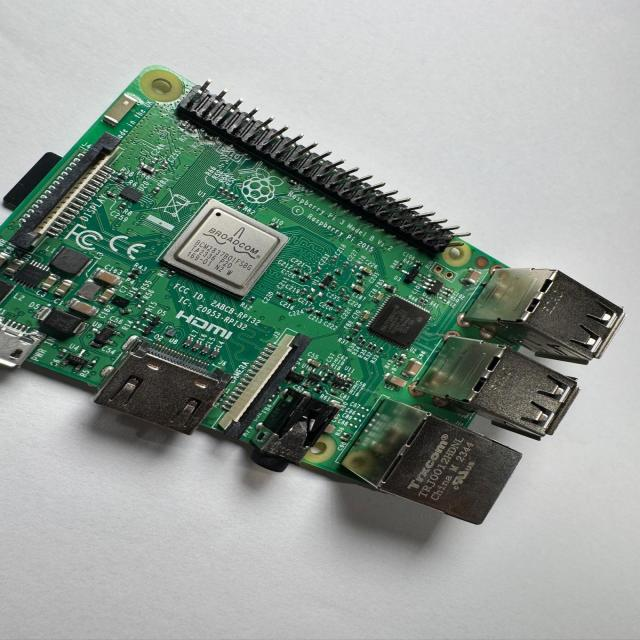CPU: (160, 201, 286, 300)
Ethernet: (361, 416, 523, 527)
GPIO: (176, 85, 455, 256)
HDMI: (101, 339, 227, 438)
RAM-3: (368, 292, 433, 352)
Raspberry: (0, 67, 626, 527)
